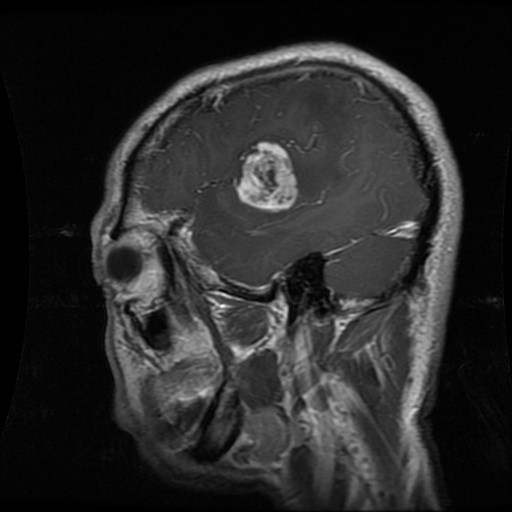glioma: (238, 144, 297, 212)
